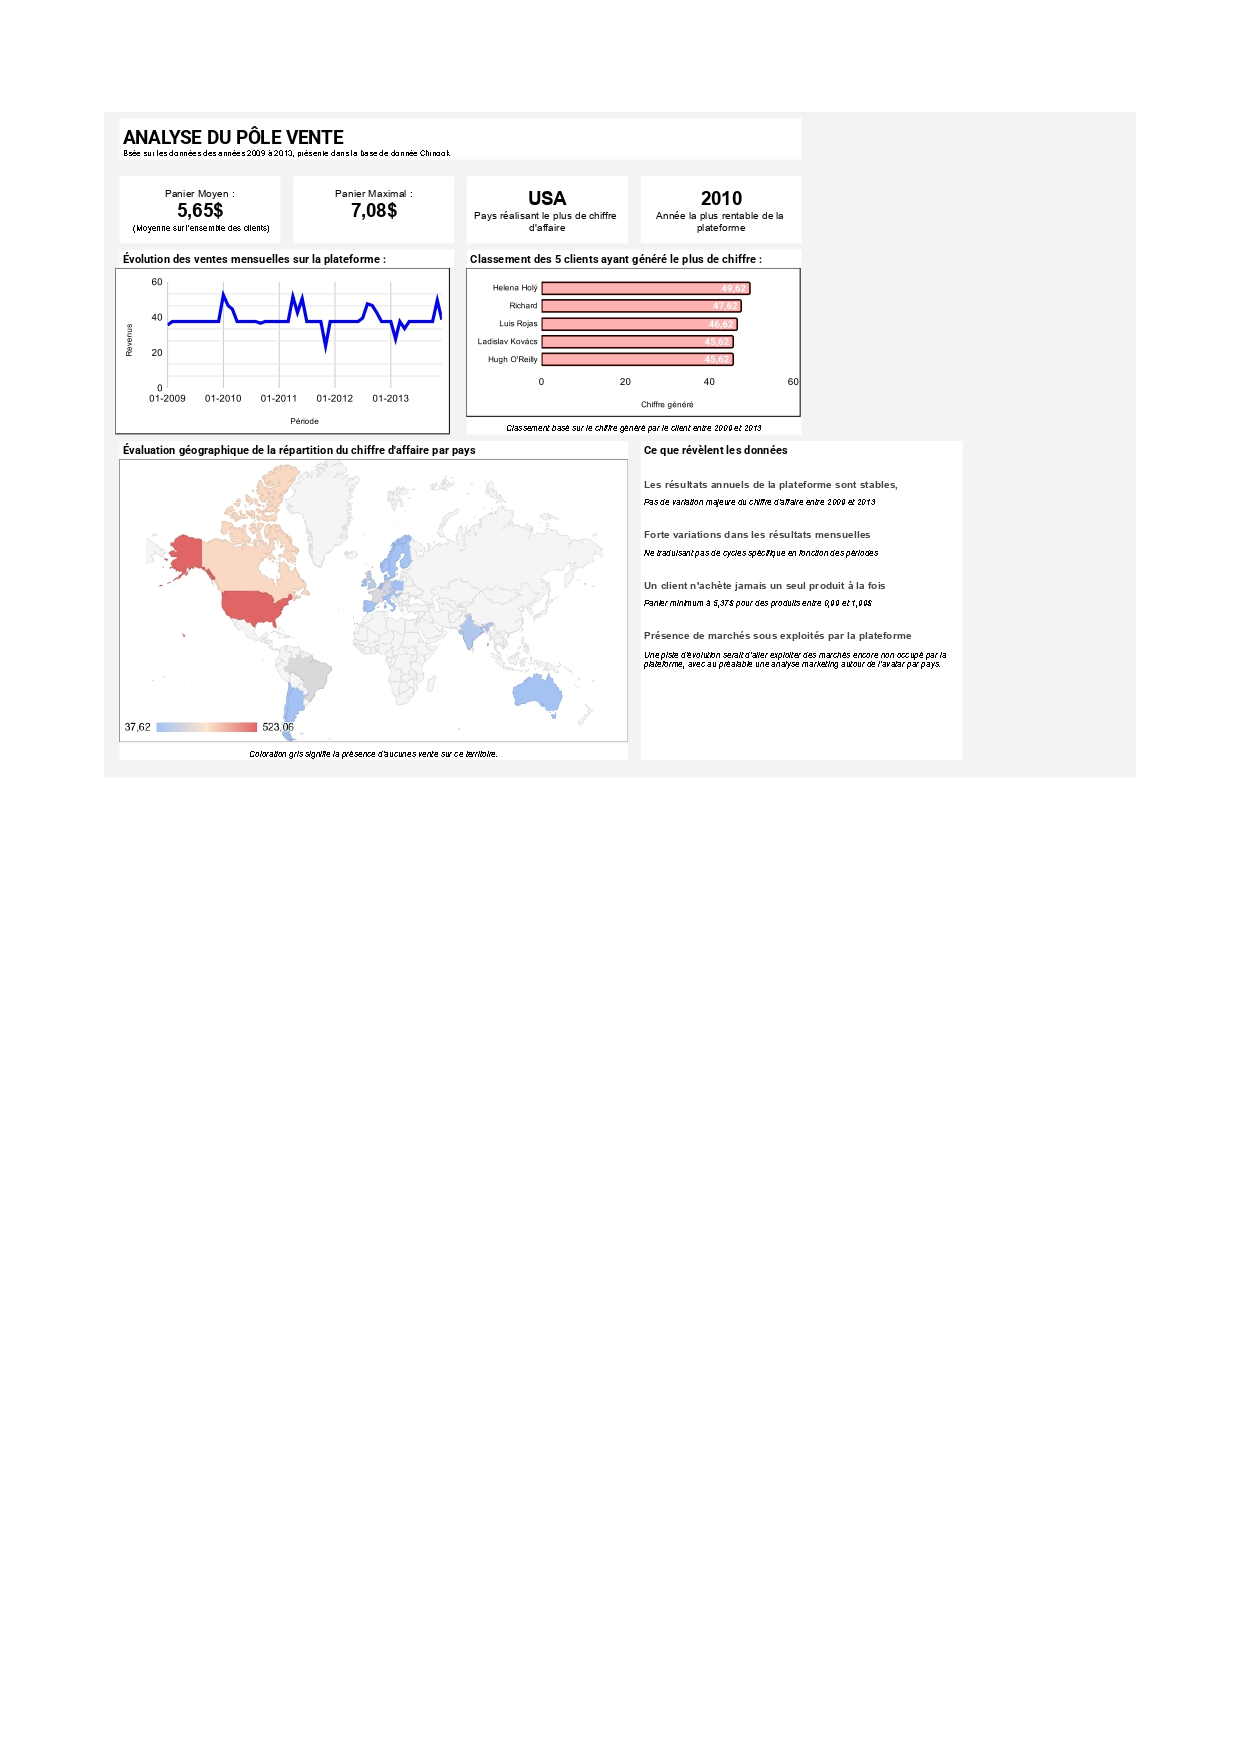

Layout of this report page (visuals, bound fields, positions):
{"tool":"powerbi","page":{"name":"PÔLE VENTE","canvas":[2560,1440],"ordinal":0},"visuals":[{"type":"shape","box":[16,16,2528,112],"z":0},{"type":"shape","box":[16,136,544,648],"z":1000},{"type":"shape","box":[576,144,400,160],"z":2000},{"type":"shape","box":[1072,144,416,160],"z":3000},{"type":"shape","box":[1536,144,416,160],"z":4000},{"type":"shape","box":[2048,144,448,160],"z":5000},{"type":"shape","box":[1616,896,880,512],"z":6000},{"type":"textbox","box":[32,16,2512,112],"z":7000},{"type":"lineChart","title":"Évolution des ventes sur la plateforme :","fields":{"Category":["evolution_sales_monthly.Date"],"Y":["Sum(evolution_sales_monthly.Revenus)"]},"box":[576,336,912,448],"z":8000},{"type":"clusteredBarChart","fields":{"Category":["clients.Client"],"Y":["clients.selecteur_client"]},"box":[1536,336,960,544],"z":9000},{"type":"slicer","fields":{"Values":["Date.Date"]},"box":[24,240,528,64],"z":10000},{"type":"slicer","fields":{"Values":["Type_clients.Type_clients"]},"box":[24,400,528,64],"z":11000},{"type":"map","title":"Évaluation géographique de la répartition du chiffre d''affaire par pays","fields":{"Category":["total_pays.Country"],"Size":["Sum(total_pays.Total_Pays)"]},"box":[576,800,912,608],"z":12000},{"type":"actionButton","box":[24,624,528,80],"z":13000},{"type":"textbox","box":[1616,896,880,512],"z":14000},{"type":"textbox","box":[16,160,544,80],"z":15000},{"type":"textbox","box":[16,336,544,64],"z":16000},{"type":"textbox","box":[16,560,544,64],"z":17000},{"type":"textbox","box":[576,144,400,160],"z":18000},{"type":"textbox","box":[1072,144,416,160],"z":19000},{"type":"textbox","box":[1536,144,416,160],"z":20000},{"type":"textbox","box":[2048,144,448,160],"z":21000}]}

Visuals, with their boxes on the page's 2560x1440 design canvas (x1, y1, x2, y2). These are canvas units, not pixel positions in the 1240x1755 screenshot, which may show the page scaled, cropped or inside an application window:
shape: 16,16,2544,128
shape: 16,136,560,784
shape: 576,144,976,304
shape: 1072,144,1488,304
shape: 1536,144,1952,304
shape: 2048,144,2496,304
shape: 1616,896,2496,1408
textbox: 32,16,2544,128
"Évolution des ventes sur la plateforme :" lineChart: 576,336,1488,784
clusteredBarChart - clients.Client x clients.selecteur_client: 1536,336,2496,880
slicer - Date.Date: 24,240,552,304
slicer - Type_clients.Type_clients: 24,400,552,464
"Évaluation géographique de la répartition du chiffre d''affaire par pays" map: 576,800,1488,1408
actionButton: 24,624,552,704
textbox: 1616,896,2496,1408
textbox: 16,160,560,240
textbox: 16,336,560,400
textbox: 16,560,560,624
textbox: 576,144,976,304
textbox: 1072,144,1488,304
textbox: 1536,144,1952,304
textbox: 2048,144,2496,304
